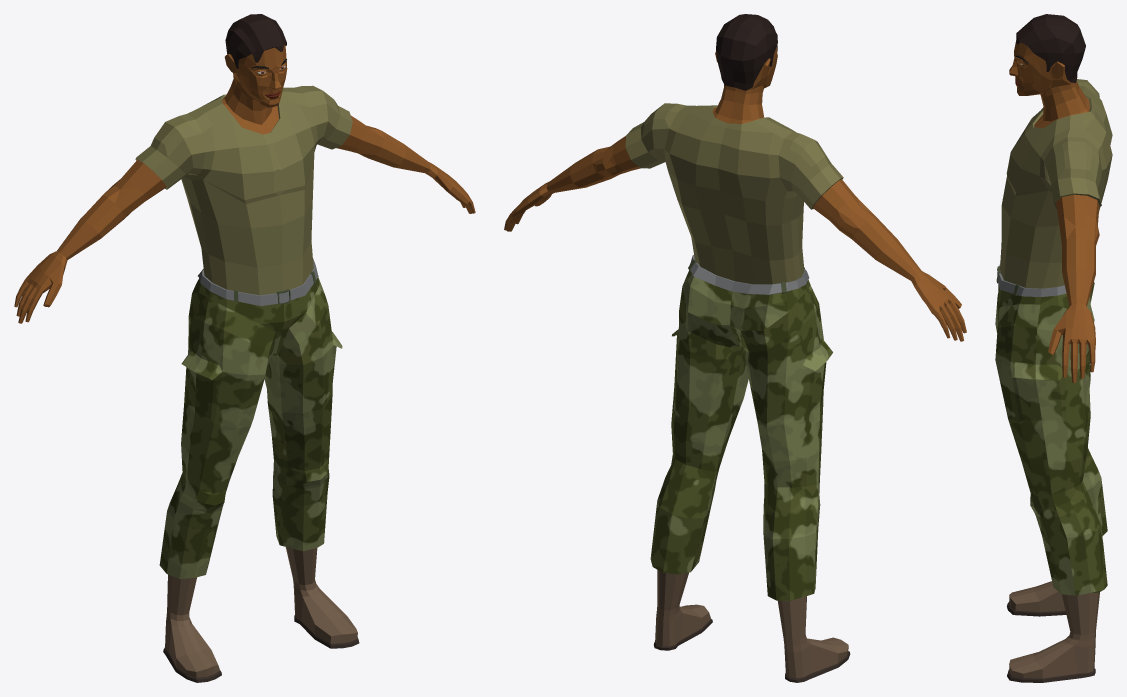
File: SM_M_Soldier_M03.fbx
The picture shows the model from 3 angles, left to right: view 1: azimuth 30°, elevation 25°; view 2: azimuth 150°, elevation 25°; view 3: azimuth 270°, elevation 25°; orthographic projection.
Visible parts, largest first — view 1: Sphere; view 2: Sphere; view 3: Sphere.
Boxes of the visible parts, x1=… form: Sphere: x1=14, y1=14, x2=475, y2=682; Sphere: x1=504, y1=14, x2=966, y2=682; Sphere: x1=995, y1=14, x2=1112, y2=682.
Bounding box in the file's own units: 129 × 171 × 29.1.
